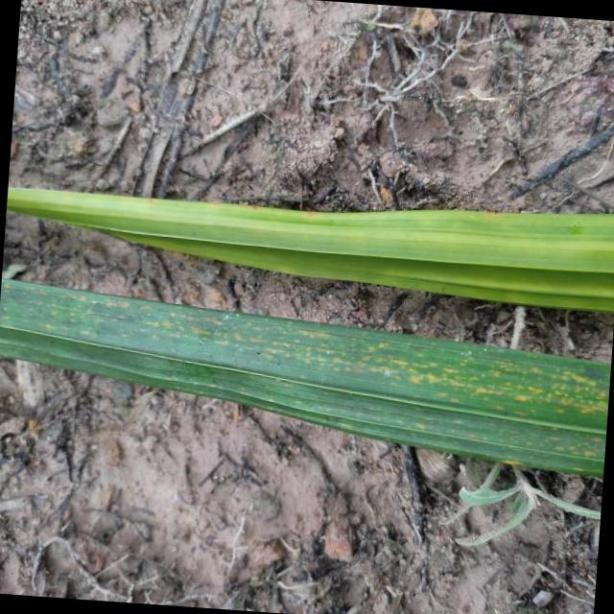nitrogen: (1, 273, 614, 482), (11, 184, 614, 320)
